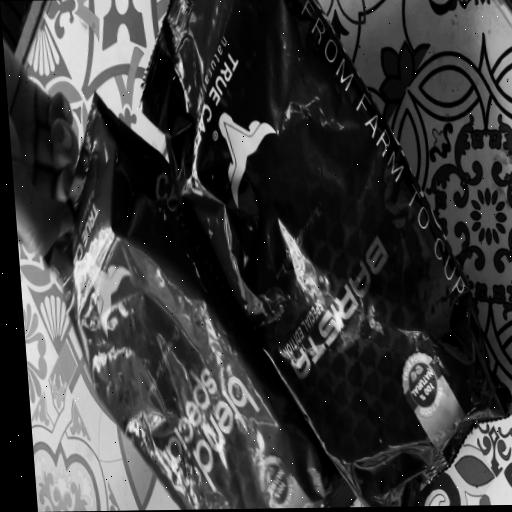cafe_hat: (142, 0, 512, 507)
cafe_xay: (46, 98, 354, 510)
